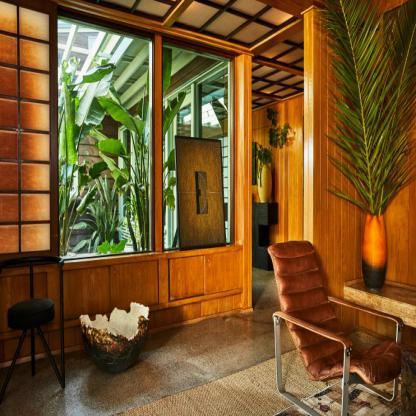chair: (254, 237, 416, 416), (0, 252, 67, 399)
table: (334, 272, 416, 336)
